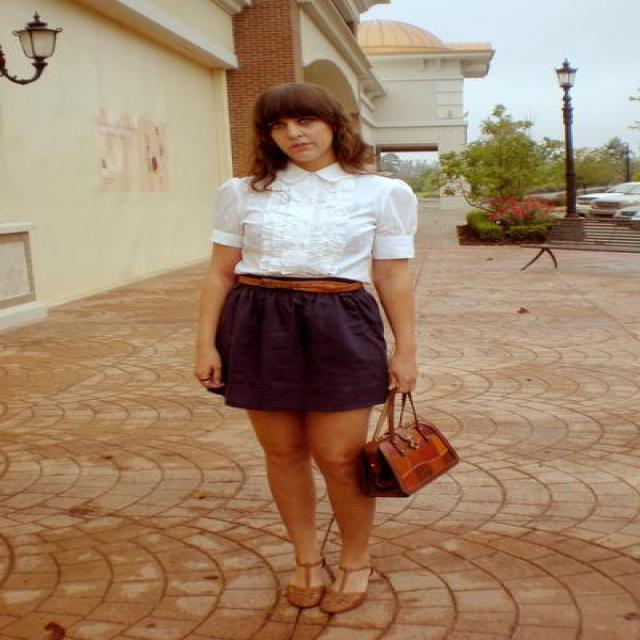bag: (350, 422, 458, 497)
shirt: (198, 166, 416, 282)
shoe: (272, 584, 363, 618)
skirt: (206, 277, 392, 418)
